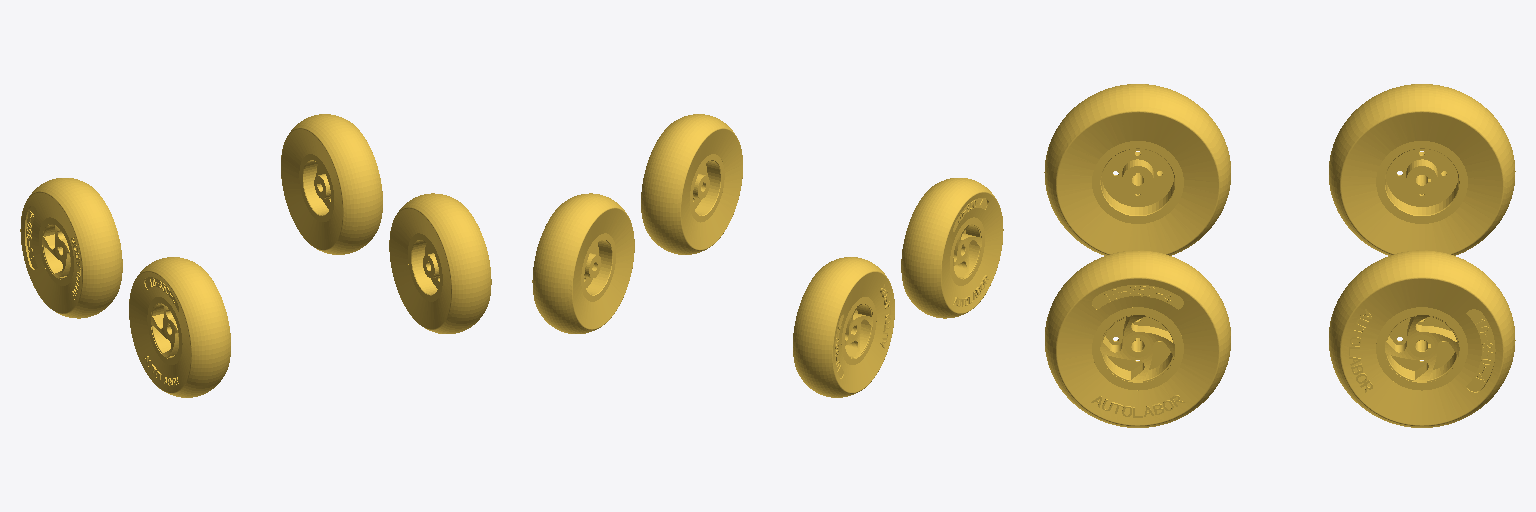
robot.urdf — autolabor_description:
<robot name="autolabor_description">
  <link name="world" />
  <link name="base_link">
    <visual>
      <origin
        xyz="0 0 0"
        rpy="0 0 0" />
      <geometry>
        <mesh
          filename="package://autolabor_description/meshes/body.stl" />
      </geometry>
      <material
        name="">
        <color
          rgba="0.96 0.81 0.36 1" />
      </material>
    </visual>
    <collision>
     <origin
        xyz="0 0 0"
        rpy="0 0 0" />
      <geometry>
        <mesh
          filename="package://autolabor_description/meshes/body.stl" />
      </geometry>
    </collision>
    <inertial>
      <mass value="10"/>
      <origin xyz="0 0 0" rpy="0 0 0"/>
      <inertia ixx="0.000633" ixy="0.000002" ixz="0.000006" iyy="0.000523" iyz="0" izz="0.000999" />
    </inertial>
  </link>
  <link name="front_link">
    <visual>
      <origin
        xyz="0 0 0"
        rpy="0 0 0" />
      <geometry>
        <mesh
          filename="package://autolabor_description/meshes/frontwheel.stl" />
      </geometry>
      <material
        name="">
        <color
          rgba="0.96 0.81 0.36 1" />
      </material>
    </visual>
    <collision>
     <origin
        xyz="0 0 0"
        rpy="0 0 0" />
      <geometry>
        <mesh
          filename="package://autolabor_description/meshes/frontwheel.stl" />
      </geometry>
    </collision>
    <inertial>
      <mass value="1"/>
      <origin xyz="0 0 0" rpy="0 0 0"/>
      <inertia ixx="0.000026" ixy="0" ixz="0" iyy="0.000227" iyz="0" izz="0.000227" />
    </inertial>
  </link>
  <link name="back_link">
    <visual>
      <origin
        xyz="0 0 0"
        rpy="0 0 0" />
      <geometry>
        <mesh
          filename="package://autolabor_description/meshes/backwheel.stl" />
      </geometry>
      <material
        name="">
        <color
          rgba="0.96 0.81 0.36 1" />
      </material>
    </visual>
    <collision>
     <origin
        xyz="0 0 0"
        rpy="0 0 0" />
      <geometry>
        <mesh
          filename="package://autolabor_description/meshes/backwheel.stl" />
      </geometry>
    </collision>
    <inertial>
      <mass value="1"/>
      <origin xyz="0 0 0" rpy="0 0 0"/>
      <inertia ixx="0.000026" ixy="0" ixz="0" iyy="0.000227" iyz="0" izz="0.000227" />
    </inertial>
  </link>

  <joint name="fixed_joint" type="fixed">
    <origin xyz="0 0 0" rpy="0 0 0" />
    <parent link="world" />
    <child link="base_link" />
  </joint>
  <joint name="joint1" type="revolute">
    <origin xyz="0 0 0" rpy="0 0 0" />
    <axis xyz="1 0 0" />
    <limit upper="0" lower="-1.57" velocity="10" effort="1" />
    <parent link="base_link" />
    <child link="front_link" />
  </joint>
  <joint name="joint2" type="revolute">
    <origin xyz="0 0 0" rpy="0 0 0" />
    <axis xyz="1 0 0" />
    <limit upper="0" lower="-1.57" velocity="10" effort="1" />
    <parent link="base_link" />
    <child link="back_link" />
  </joint>

  <transmission name="tran1">
    <type>transmission_interface/SimpleTransmission</type>
    <joint name="joint1">
      <hardwareInterface>hardware_interface/VelocityJointInterface</hardwareInterface>
    </joint>
    <actuator name="motor1">
      <mechanicalReduction>1</mechanicalReduction>
    </actuator>
  </transmission>
  <transmission name="tran2">
    <type>transmission_interface/SimpleTransmission</type>
    <joint name="joint2">
      <hardwareInterface>hardware_interface/VelocityJointInterface</hardwareInterface>
    </joint>
    <actuator name="motor2">
      <mechanicalReduction>1</mechanicalReduction>
    </actuator>
  </transmission>

  <gazebo>
    <plugin name="gazebo_ros_control" filename="libgazebo_ros_control.so">
    <robotNamespace>/autolabor_pro1</robotNamespace>
    <robotSimType>gazebo_ros_control/DefaultRobotHWSim</robotSimType>
  </plugin>
  </gazebo>
</robot>

--- Facts derived from the render (not from the file) ---
3 views of the same robot in one strip: view 1: azimuth 30°, elevation 25°; view 2: azimuth 150°, elevation 25°; view 3: azimuth 270°, elevation 25° (orthographic).
Robot: autolabor_description — 4 links, 3 joints (2 revolute, 1 fixed); root link world; default pose: every joint at zero.
Visible links, largest first — view 1: front_link, back_link; view 2: front_link, back_link; view 3: front_link, back_link.
Boxes of the visible links, <box> form: front_link: <box>129,193,491,397</box>; back_link: <box>20,114,382,318</box>; front_link: <box>641,114,1003,318</box>; back_link: <box>532,193,894,397</box>; front_link: <box>1044,84,1230,427</box>; back_link: <box>1329,84,1515,427</box>.
Bounding box of the posed robot: 0.6171 × 0.64 × 0.254 m (x, y, z).
Meshes: 3 distinct files referenced, 2 mesh visuals loaded (2 binary STL); not drawn: 1 (reference not matched to a file when rendering).
